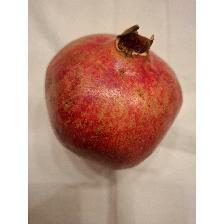Granatapfel: (44, 23, 186, 171)
